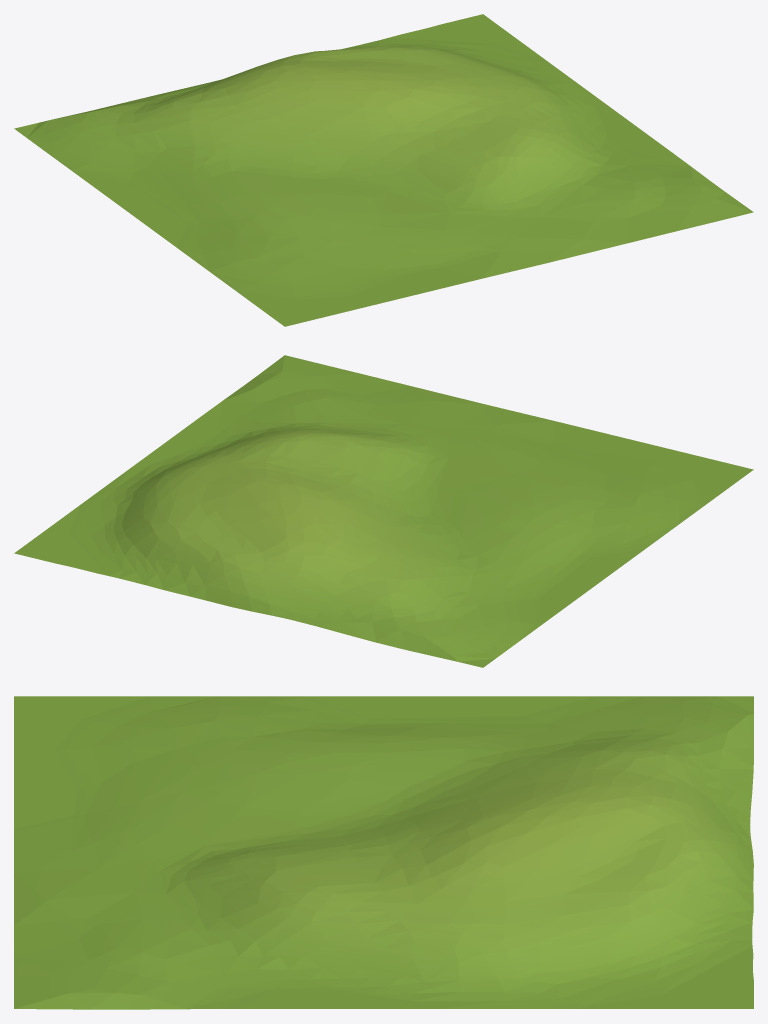
3 views of the same model, one above another, from view 1: azimuth 30°, elevation 25°; view 2: azimuth 150°, elevation 25°; view 3: azimuth 270°, elevation 25° (orthographic). The views are drawn at different scales.
Parts seen in each view (by area): view 1: Plane_03; view 2: Plane_03; view 3: Plane_03.
Part boxes in pixels (bbox=[...]): Plane_03: bbox=[14, 14, 753, 326]; Plane_03: bbox=[14, 355, 753, 667]; Plane_03: bbox=[14, 696, 753, 1009].
Bounding box in the file's own units: 50 × 4.13 × 50.
